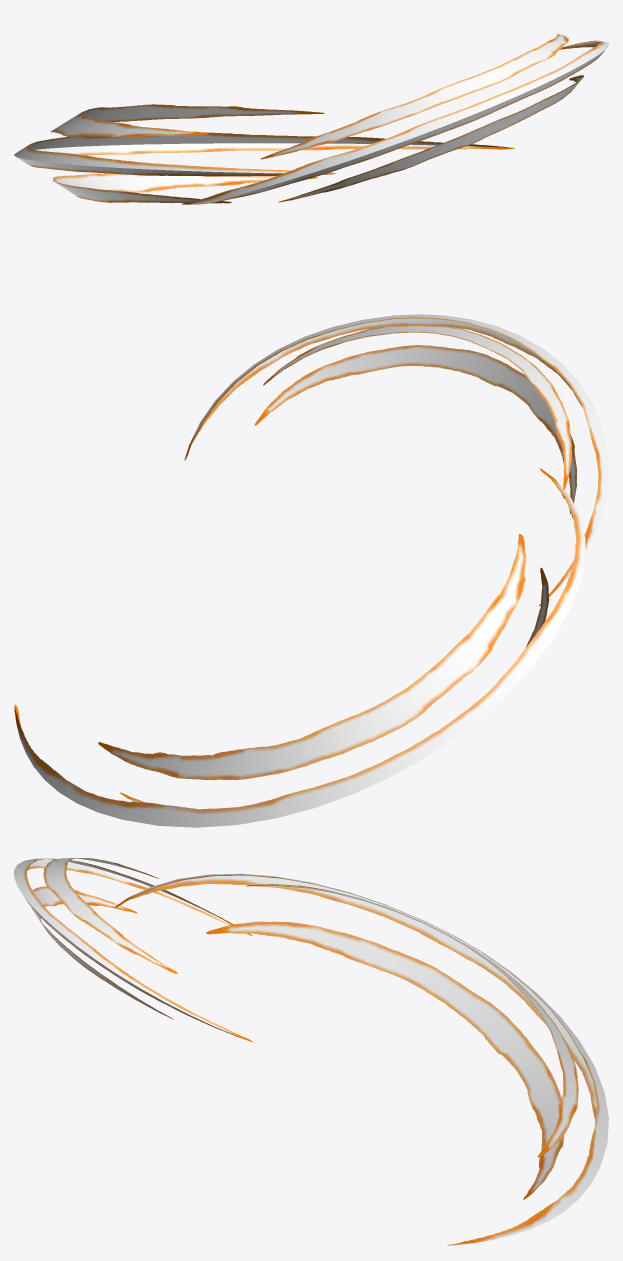
Rendered from fx_cookie0040_skill003.fbx.
The picture shows the model from 3 angles, top to bottom: view 1: azimuth 30°, elevation 25°; view 2: azimuth 150°, elevation 25°; view 3: azimuth 270°, elevation 25°; orthographic projection. The views are drawn at different scales.
Parts seen in each view (by area): view 1: L_scratch, L_Slash; view 2: L_scratch, L_Slash; view 3: L_scratch, L_Slash.
Part boxes in pixels (box(x1,y1,x2,y2)): L_scratch: box(14, 104, 514, 203); L_Slash: box(181, 33, 608, 204); L_scratch: box(14, 468, 585, 827); L_Slash: box(184, 314, 608, 605); L_scratch: box(114, 873, 608, 1245); L_Slash: box(14, 858, 253, 1042).
Bounding box in the file's own units: 952 × 597 × 1048.
Materials: 1 (1 with a texture image).
